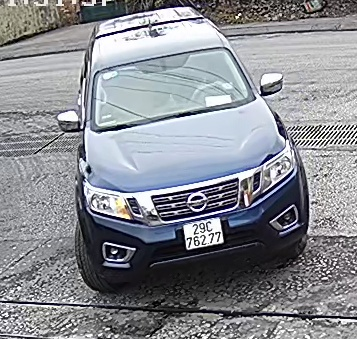vehicle plate: (178, 217, 226, 249)
